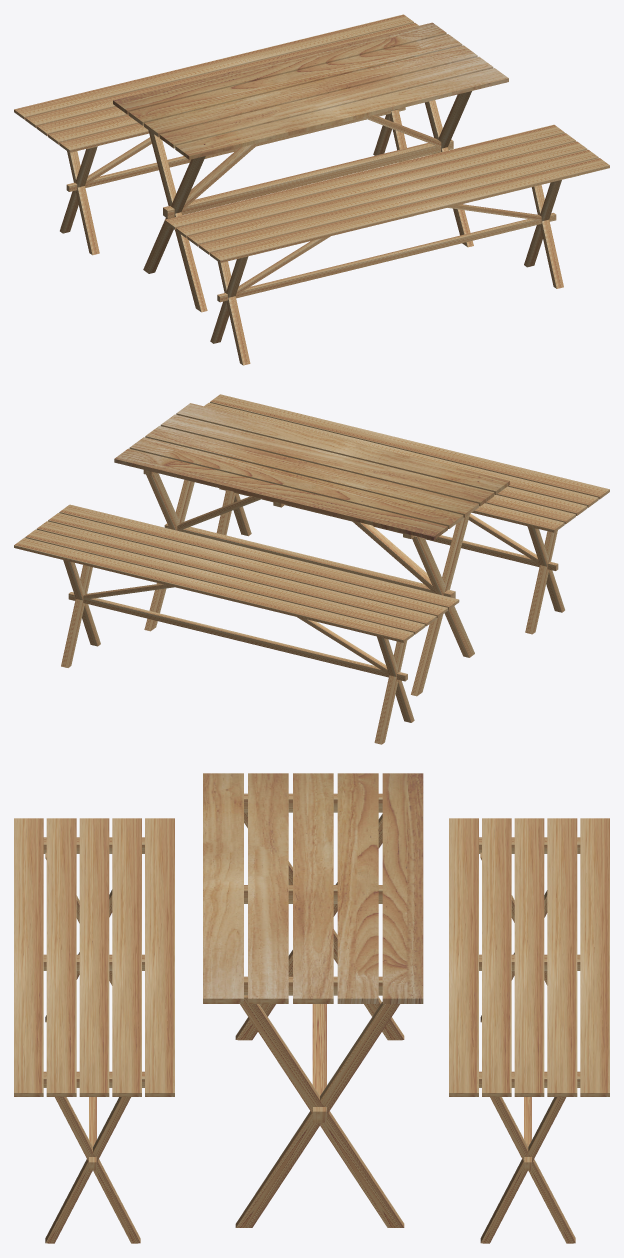
The model's file is TablesSet5.fbx.
3 views of the same model, one above another, from view 1: azimuth 30°, elevation 25°; view 2: azimuth 150°, elevation 25°; view 3: azimuth 270°, elevation 25° (orthographic). The views are drawn at different scales.
Visible parts, largest first — view 1: Cube.005, Cube.014, Cube.012, Cube.003, Cube.010, Cube.009; view 2: Cube.005, Cube.012, Cube.014, Cube.003, Cube.009, Cube.010; view 3: Cube.005, Cube.012, Cube.014, Cube.003, Cube.009, Cube.010, Cube.006, Cube.011, Cube.013.
Boxes of the visible parts, left/top/right/bottom form: Cube.005: left=113, top=22, right=508, bottom=159; Cube.014: left=164, top=124, right=609, bottom=262; Cube.012: left=14, top=14, right=418, bottom=152; Cube.003: left=143, top=91, right=473, bottom=312; Cube.010: left=210, top=180, right=563, bottom=365; Cube.009: left=60, top=107, right=408, bottom=255; Cube.005: left=114, top=403, right=509, bottom=540; Cube.012: left=14, top=504, right=459, bottom=642; Cube.014: left=204, top=394, right=609, bottom=532; Cube.003: left=144, top=473, right=474, bottom=696; Cube.009: left=61, top=560, right=414, bottom=744; Cube.010: left=216, top=488, right=564, bottom=634; Cube.005: left=203, top=773, right=423, bottom=1003; Cube.012: left=449, top=818, right=609, bottom=1096; Cube.014: left=14, top=818, right=174, bottom=1096; Cube.003: left=235, top=812, right=404, bottom=1227; Cube.009: left=480, top=852, right=575, bottom=1243; Cube.010: left=45, top=852, right=140, bottom=1243; Cube.006: left=244, top=793, right=382, bottom=995; Cube.011: left=479, top=837, right=580, bottom=1087; Cube.013: left=43, top=837, right=144, bottom=1087.
Bounding box in the file's own units: 221 × 92.31 × 203.
Materials: 1 (1 with a texture image).
